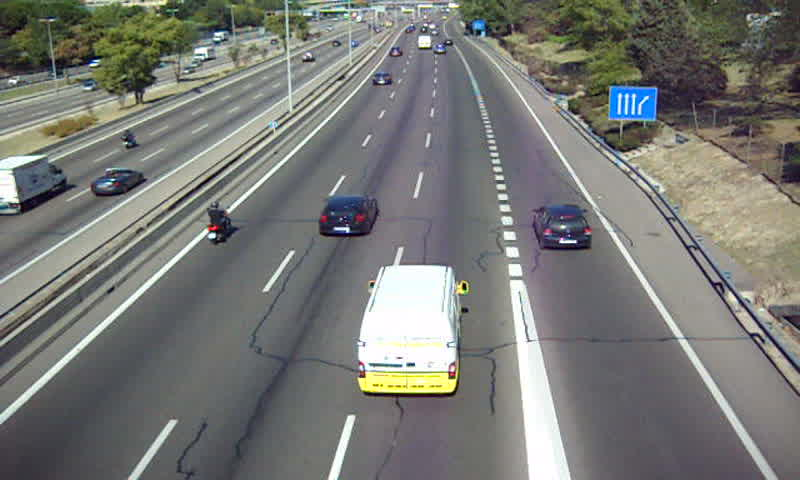car: (531, 205, 592, 252), (317, 194, 378, 240), (371, 71, 393, 88)
motorcycle: (204, 201, 232, 247)
van: (357, 265, 462, 393)
